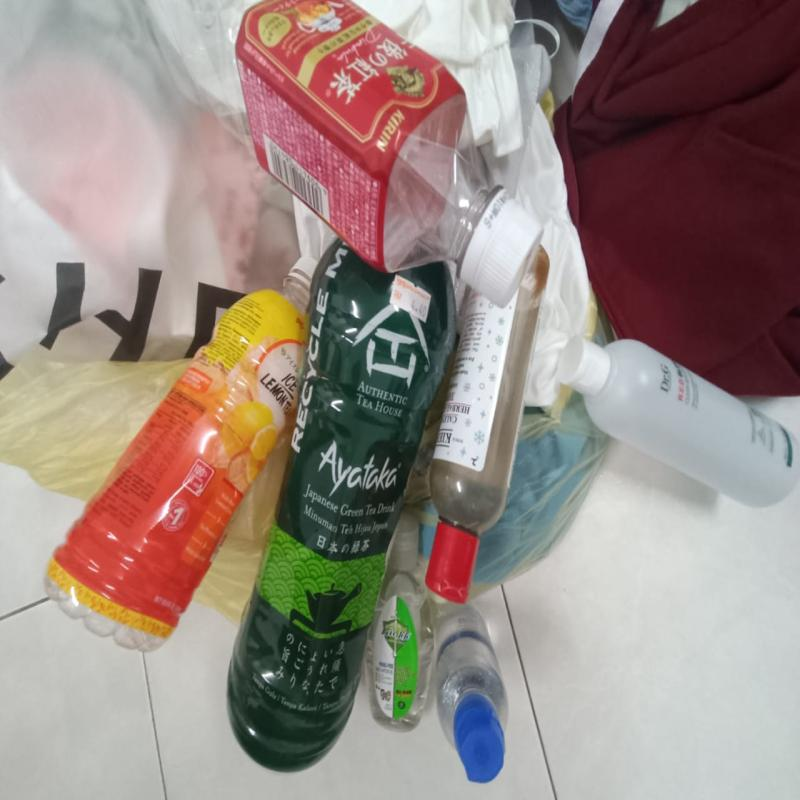botella: (228, 241, 462, 767), (144, 0, 545, 306), (48, 250, 326, 658)
